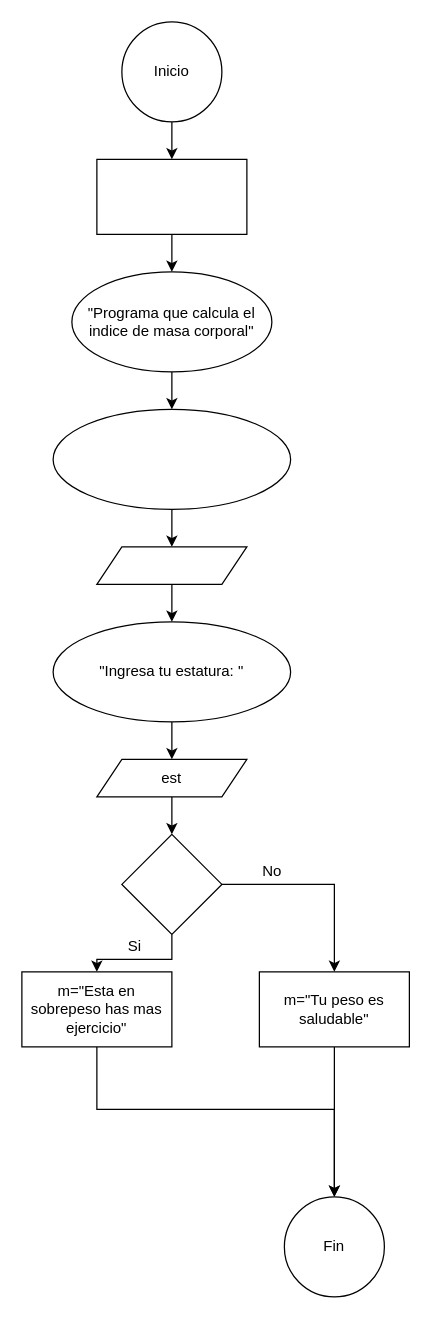
Image size: 431x1319. Some labels were removed from this diagram. Here are the shapes that lost their labels. From the top down, the centre of each, then its label:
[171,196]: peso=0.0 est=0.0 imc=0.0 m=string
[171,458]: "Ingresa tu peso: "
[171,565]: peso
[171,883]: imc>=25
